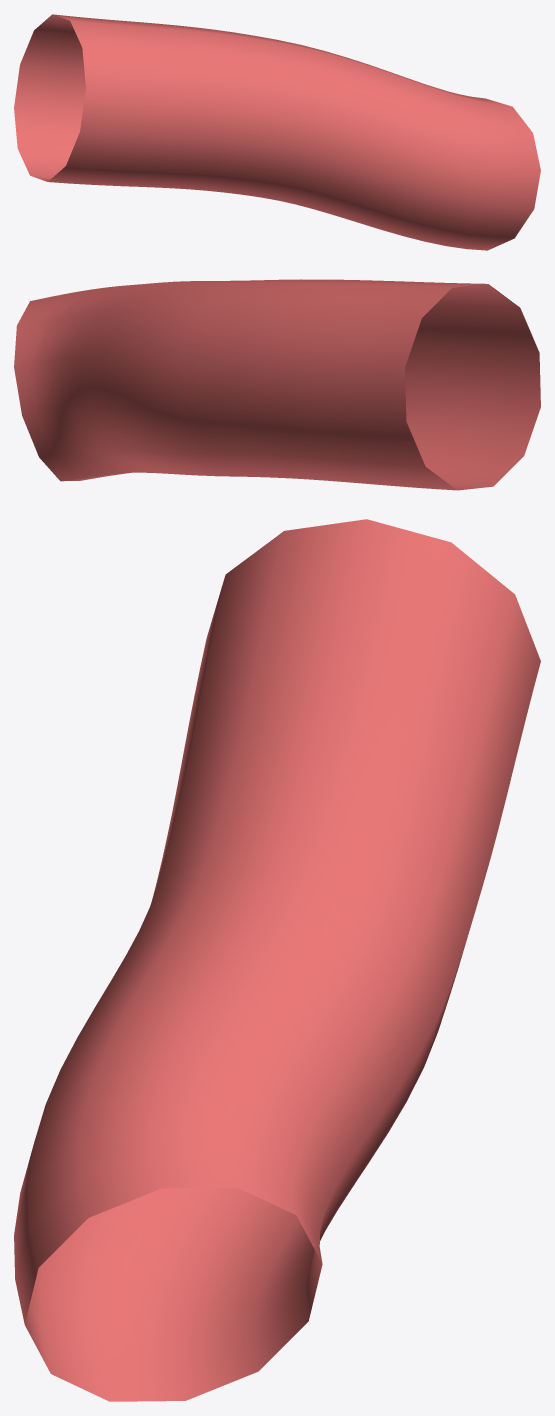
The model's file is Left_coronary_artery.glb.
The picture shows the model from 3 angles, top to bottom: view 1: azimuth 30°, elevation 25°; view 2: azimuth 150°, elevation 25°; view 3: azimuth 270°, elevation 25°; orthographic projection. The views are drawn at different scales.
Visible parts, largest first — view 1: Left_coronary_artery_BezierCurve.291; view 2: Left_coronary_artery_BezierCurve.291; view 3: Left_coronary_artery_BezierCurve.291.
Part boxes in pixels (box(x1,y1,x2,y2)): Left_coronary_artery_BezierCurve.291: box(14, 14, 540, 250); Left_coronary_artery_BezierCurve.291: box(14, 279, 540, 490); Left_coronary_artery_BezierCurve.291: box(14, 519, 540, 1401).
Bounding box in the file's own units: 0.0118 × 0.0071 × 0.00622.
